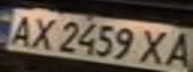2: (51, 17, 81, 54)
4: (75, 20, 100, 57)
5: (93, 21, 118, 60)
9: (112, 24, 142, 62)
A: (157, 29, 193, 70), (3, 11, 39, 47)
X: (133, 26, 178, 66), (21, 13, 60, 51)
